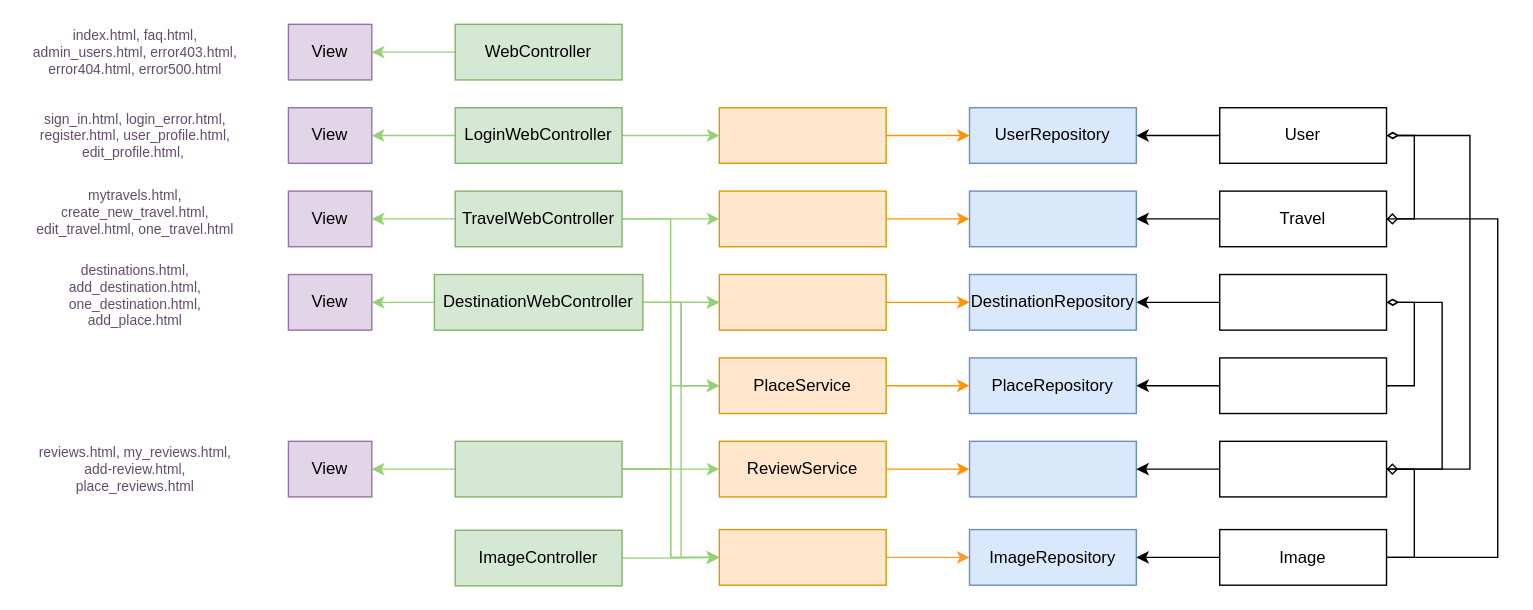
The diagram is 1533 pixels wide and 610 high, and some of its shapes have lost their labels. The shapes that lost their labels are listed below. From the top down, each one's centre as x and y in pixels, then its label:
(802,134): UserService
(802,218): TravelService
(1052,218): TravelRepository
(802,301): DestinationService
(1302,301): Destination
(1302,385): Place
(538,468): ReviewWebController
(1052,468): ReviewRepository
(1302,468): Review
(802,556): ImageService
